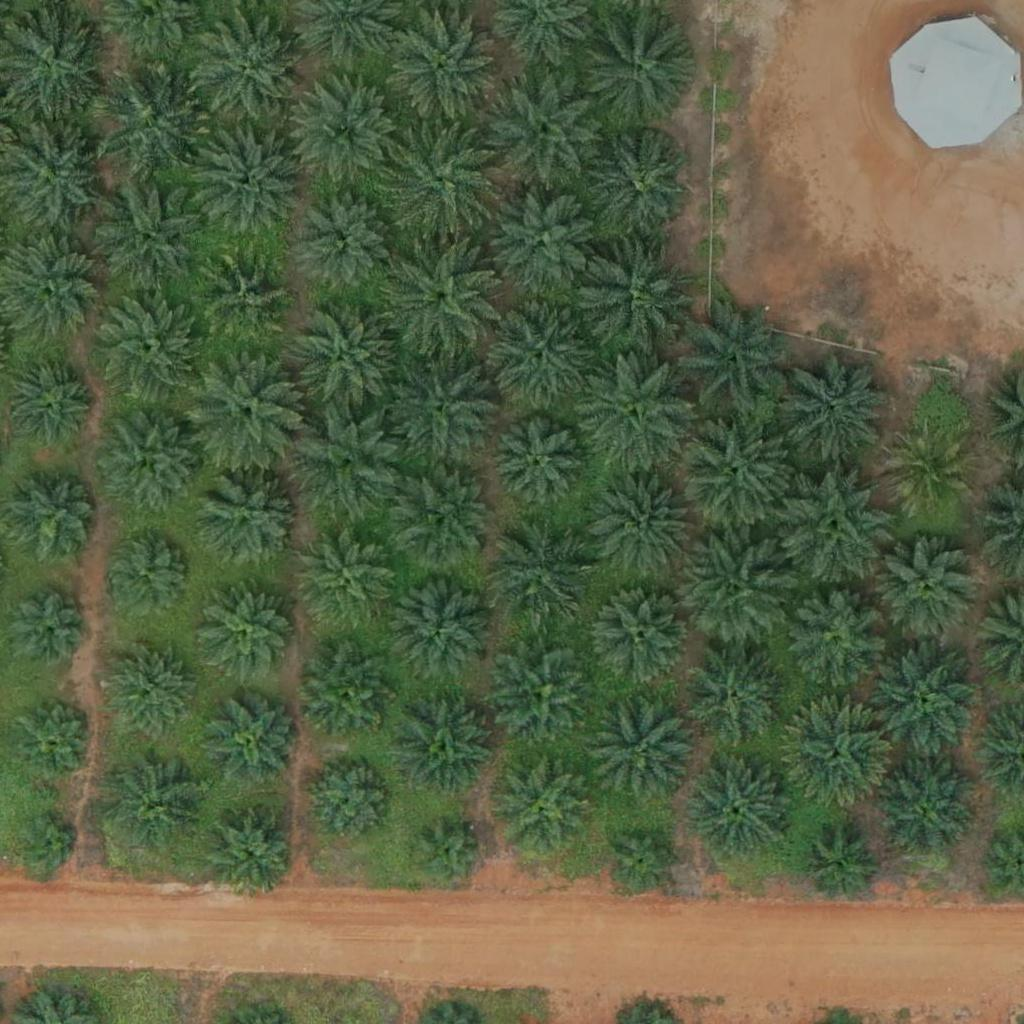Kelapa_Sawit: (782, 353, 895, 467), (780, 469, 893, 583), (680, 304, 793, 418), (197, 17, 310, 130), (290, 76, 403, 189), (581, 16, 694, 129), (869, 642, 982, 755), (385, 243, 498, 356), (384, 348, 497, 461), (287, 297, 400, 410), (386, 14, 498, 128), (489, 75, 601, 189), (680, 410, 792, 524), (583, 243, 695, 357), (782, 703, 894, 816), (93, 66, 205, 179), (381, 123, 493, 236), (677, 535, 789, 648), (580, 357, 692, 470), (484, 302, 596, 415), (293, 404, 405, 517), (191, 353, 303, 466), (90, 292, 202, 405), (486, 187, 598, 300), (190, 120, 302, 233), (94, 179, 206, 292), (876, 760, 976, 861), (685, 651, 785, 752), (689, 758, 789, 859), (591, 474, 691, 575), (592, 587, 692, 688), (592, 696, 692, 797), (491, 519, 591, 620), (493, 645, 593, 746), (493, 757, 593, 858), (399, 469, 499, 570), (393, 577, 493, 678), (394, 699, 494, 800), (300, 526, 400, 627), (299, 643, 399, 744), (198, 468, 298, 569), (197, 584, 297, 685), (101, 412, 201, 513), (591, 135, 691, 235), (880, 541, 980, 641), (786, 591, 886, 691), (200, 801, 300, 901), (106, 751, 206, 851), (201, 254, 289, 343), (885, 431, 973, 519), (305, 757, 393, 845), (493, 421, 580, 509), (210, 697, 297, 785), (104, 528, 191, 616), (106, 640, 193, 728), (3, 358, 90, 446), (9, 477, 96, 565), (302, 197, 389, 285), (9, 592, 84, 668), (411, 816, 486, 892), (16, 701, 91, 777), (803, 830, 878, 905), (607, 824, 682, 899), (18, 814, 80, 877)
